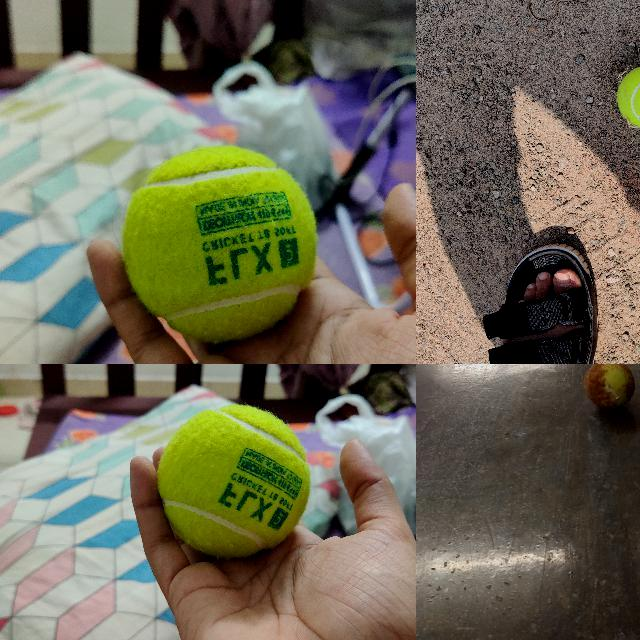Tennis Ball: (121, 145, 318, 343), (157, 404, 310, 556), (583, 364, 636, 411), (617, 65, 640, 130)
